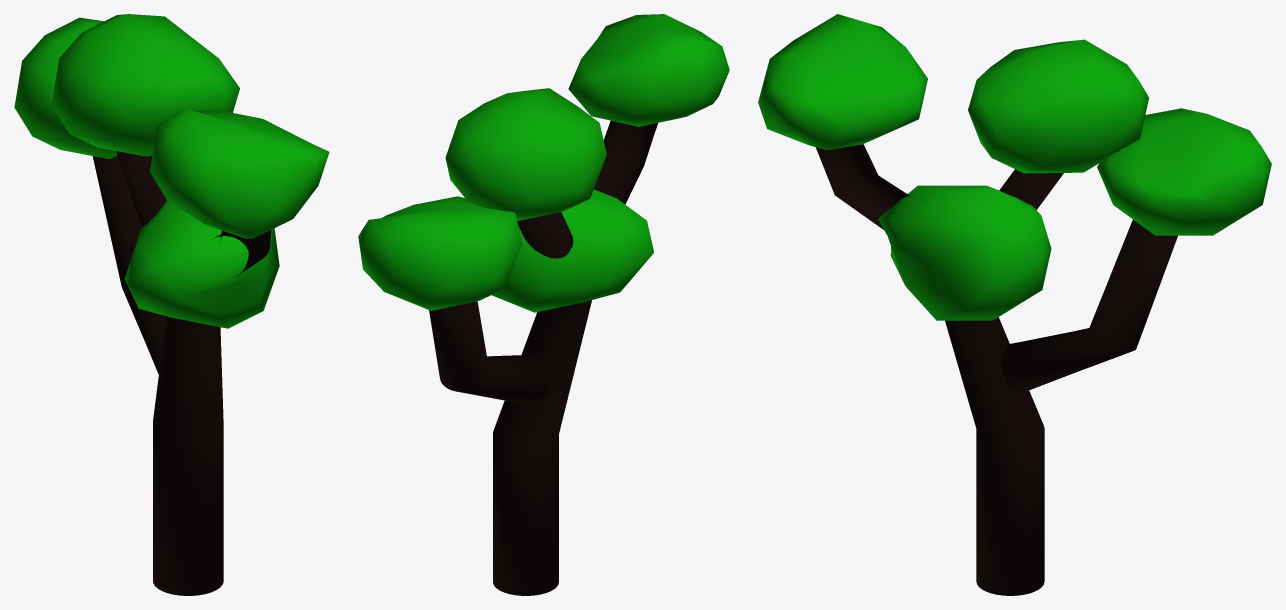
File: arvore1.obj
3 views of the same model, side by side, from view 1: azimuth 30°, elevation 25°; view 2: azimuth 150°, elevation 25°; view 3: azimuth 270°, elevation 25° (orthographic). The views are drawn at different scales.
Parts seen in each view (by area): view 1: Cylinder; view 2: Cylinder; view 3: Cylinder.
Part boxes in pixels (x1,y1,x2,y2): Cylinder: [14, 14, 329, 595]; Cylinder: [358, 14, 729, 595]; Cylinder: [758, 14, 1271, 595].
Bounding box in the file's own units: 2.52 × 6.85 × 6.08.
